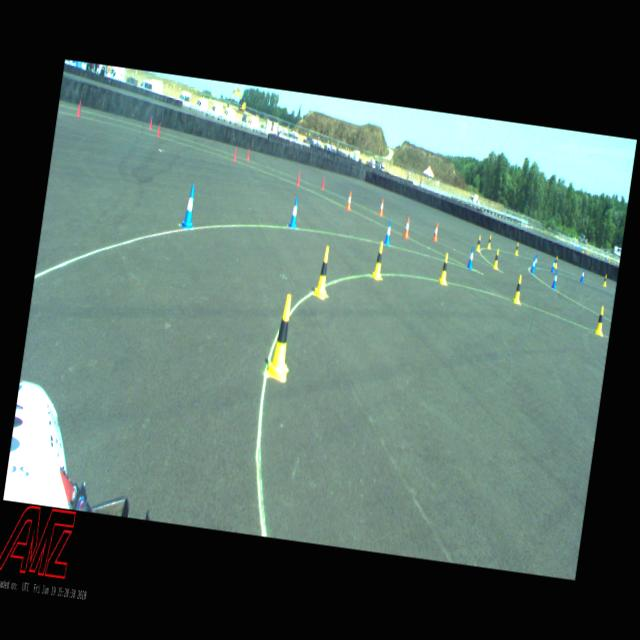blue_cone: (180, 184, 198, 228), (288, 196, 300, 229), (466, 246, 476, 270), (384, 220, 393, 246), (551, 270, 559, 290), (530, 256, 536, 274), (532, 254, 538, 270), (580, 268, 586, 283), (550, 258, 556, 273)
orange_cone: (403, 216, 411, 238), (346, 192, 354, 212), (432, 222, 440, 242), (378, 198, 386, 216)
yellow_cone: (266, 293, 298, 382), (312, 244, 333, 300), (372, 240, 386, 280), (438, 252, 452, 286), (594, 306, 606, 335), (514, 275, 524, 304), (492, 248, 500, 270), (476, 235, 482, 252), (514, 242, 520, 257), (602, 274, 608, 287), (487, 235, 492, 249), (554, 256, 559, 268)
